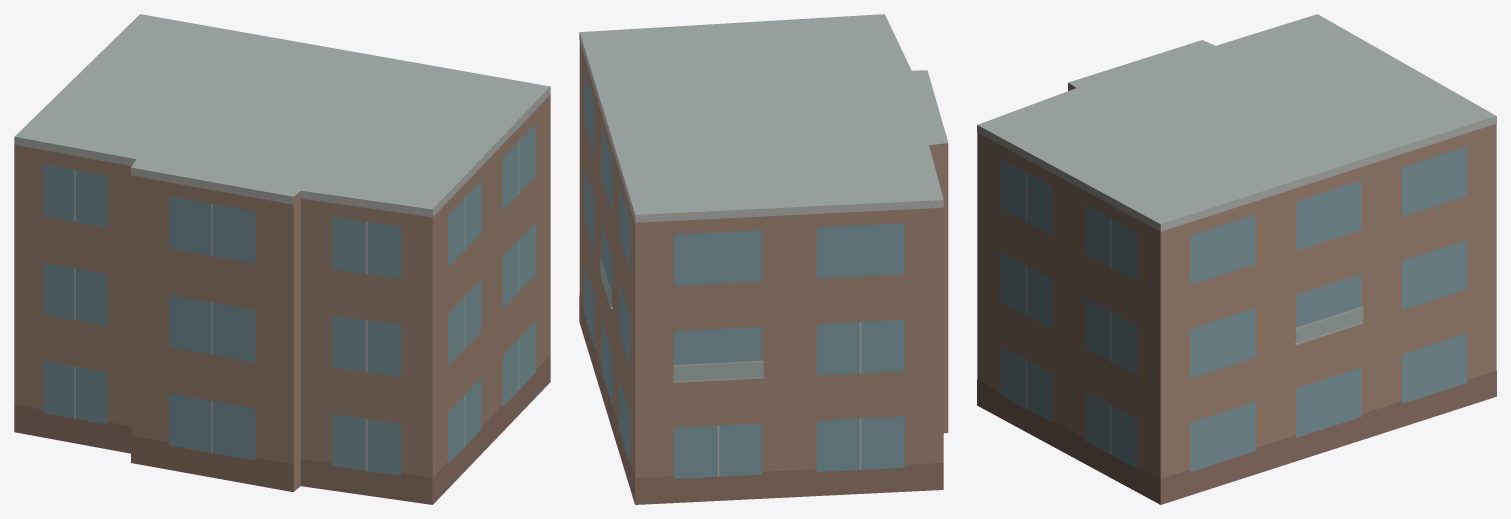
File: survey-upis-32698801.glb
The picture shows the model from 3 angles, left to right: view 1: azimuth 30°, elevation 25°; view 2: azimuth 150°, elevation 25°; view 3: azimuth 270°, elevation 25°; orthographic projection. The views are drawn at different scales.
Visible parts, largest first — view 1: survey-upis-32698801.tmp; view 2: survey-upis-32698801.tmp; view 3: survey-upis-32698801.tmp.
Boxes of the visible parts, x1,y1,x2,y2 form: survey-upis-32698801.tmp: [14, 14, 550, 504]; survey-upis-32698801.tmp: [579, 14, 948, 504]; survey-upis-32698801.tmp: [977, 14, 1496, 504].
Size of the model in its own units: 14.72 by 9.15 by 15.36.
